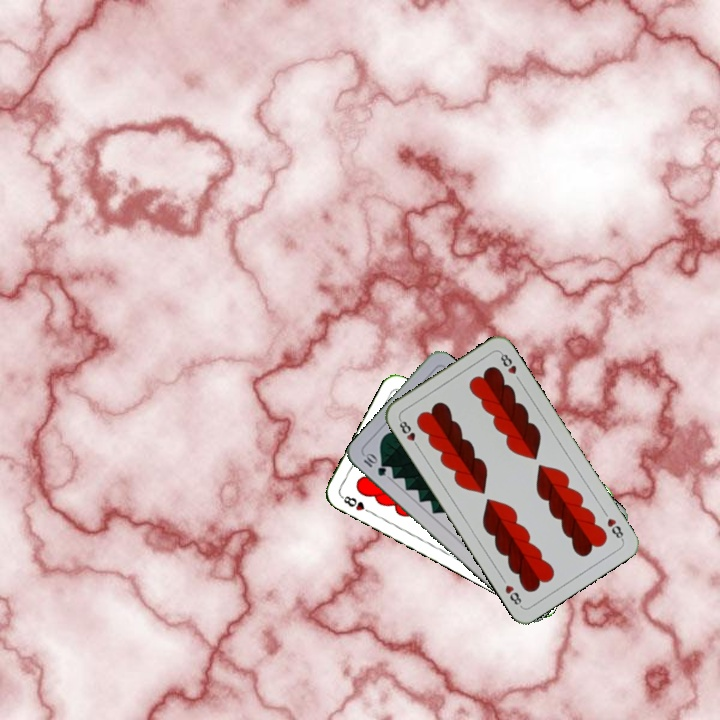G10: (359, 449, 389, 479)
H8: (395, 415, 422, 451), (337, 492, 375, 516), (603, 514, 626, 543)
